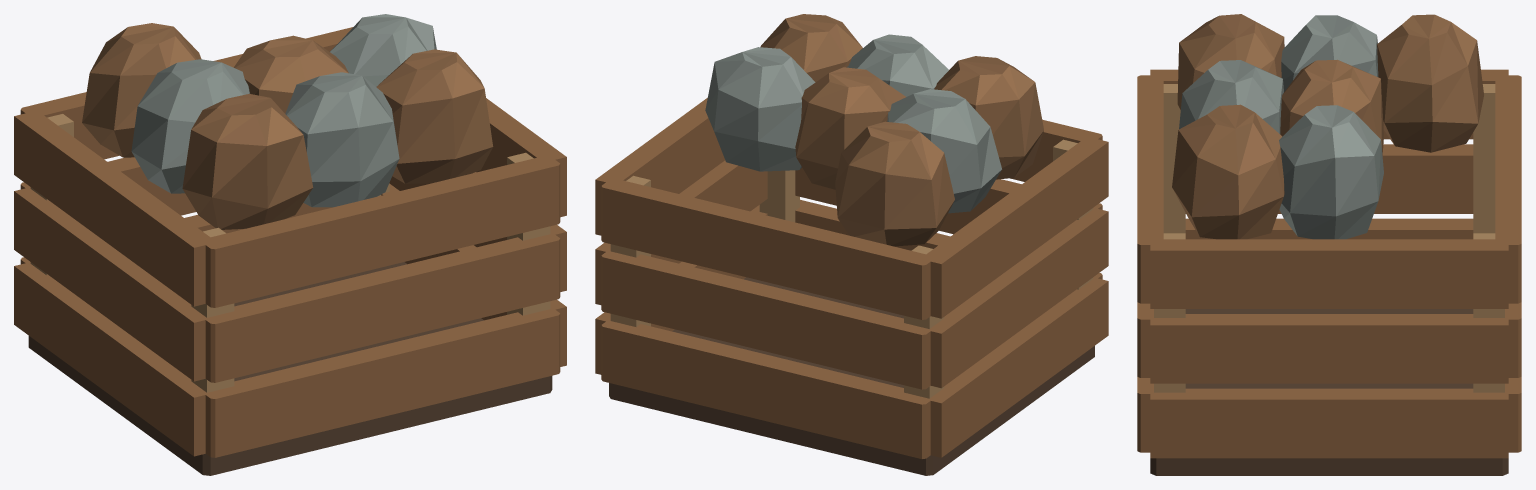
File: crate_ore.glb
The picture shows the model from 3 angles, left to right: view 1: azimuth 30°, elevation 25°; view 2: azimuth 150°, elevation 25°; view 3: azimuth 270°, elevation 25°; orthographic projection. The views are drawn at different scales.
Visible parts, largest first — view 1: geometry; view 2: geometry; view 3: geometry.
Boxes of the visible parts, bbox=[...] form: geometry: bbox=[14, 14, 566, 475]; geometry: bbox=[595, 14, 1108, 475]; geometry: bbox=[1137, 14, 1521, 475].
Bounding box in the file's own units: 0.885 × 0.73 × 0.795.
